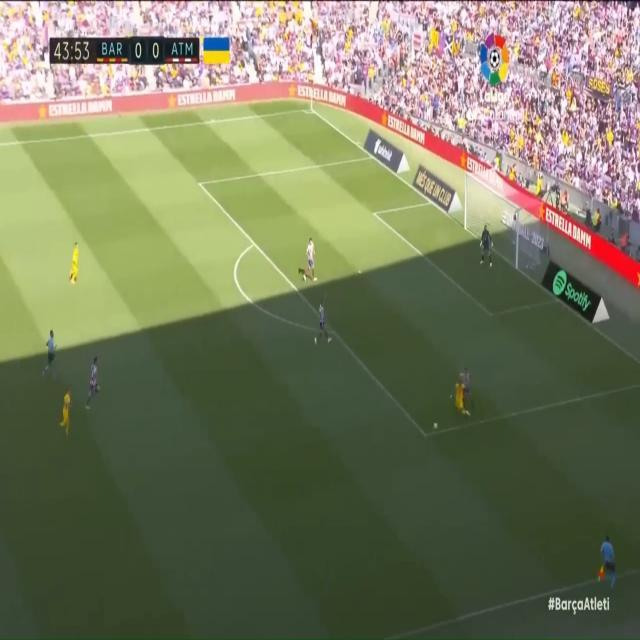ball: (428, 414, 438, 439)
goalkeeper: (477, 221, 495, 273)
player: (85, 346, 101, 409), (313, 301, 332, 350), (303, 239, 320, 293), (59, 383, 74, 439), (453, 382, 470, 427), (460, 366, 476, 410), (67, 236, 80, 285)
referee: (596, 532, 622, 597), (42, 325, 60, 390)
